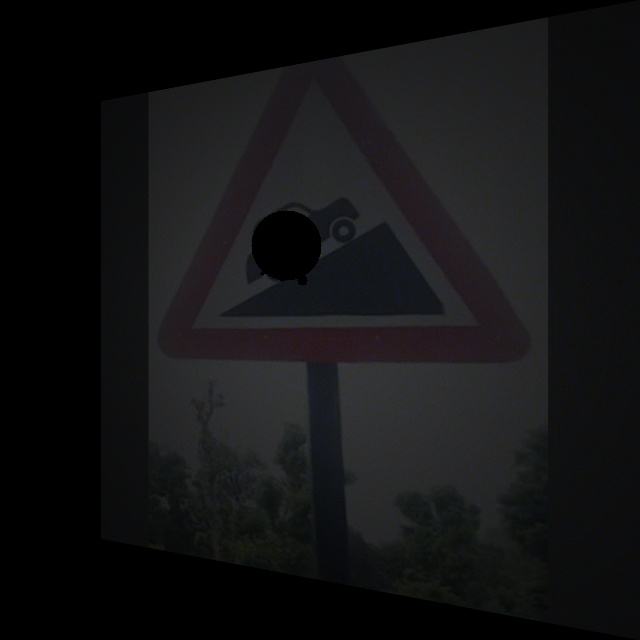Steep_Ascent: (183, 69, 486, 354)
